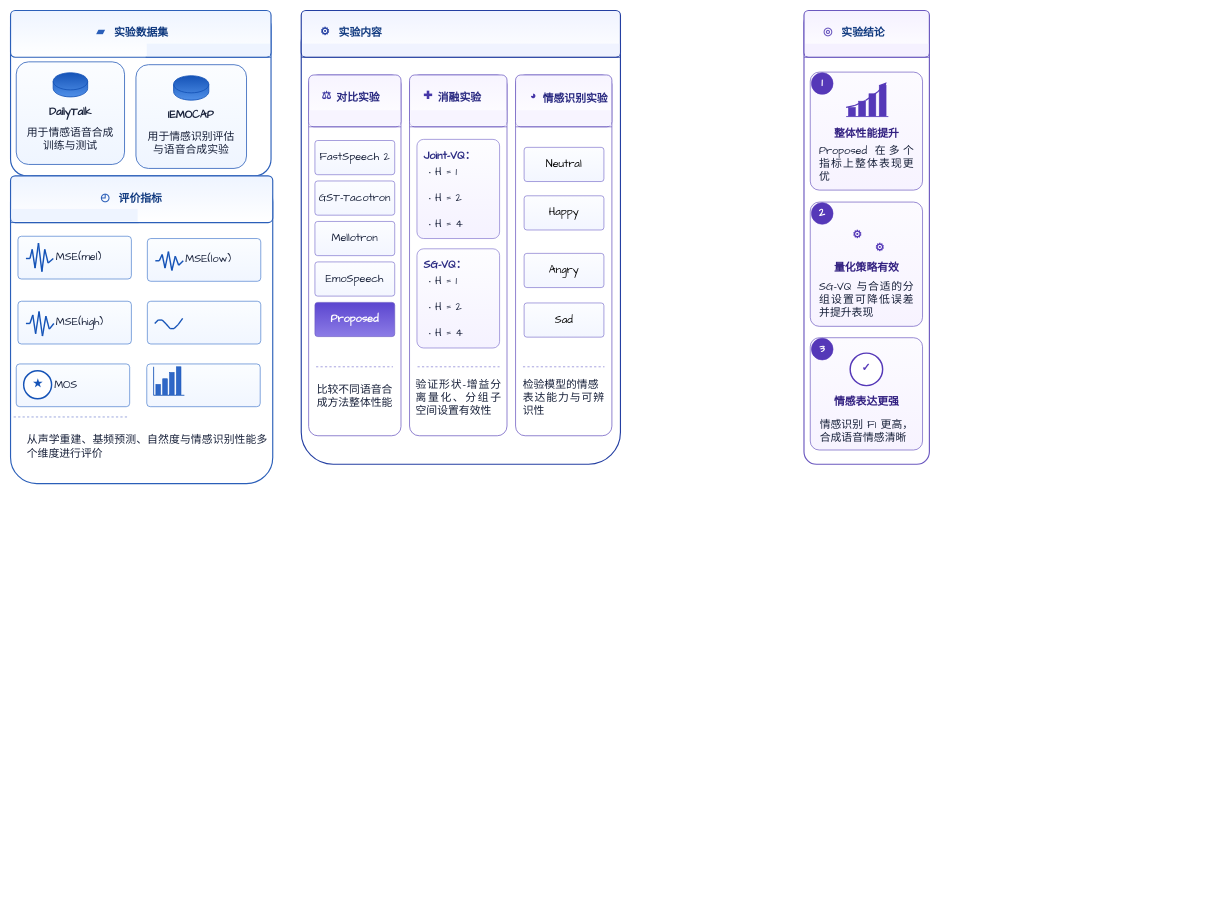
Image size: 1222x897. Some labels were removed from this diagram. Each missing label, with the box of its shape:
F0 Loss: (147, 301, 261, 344)
W-Avg F1: (146, 363, 260, 407)
